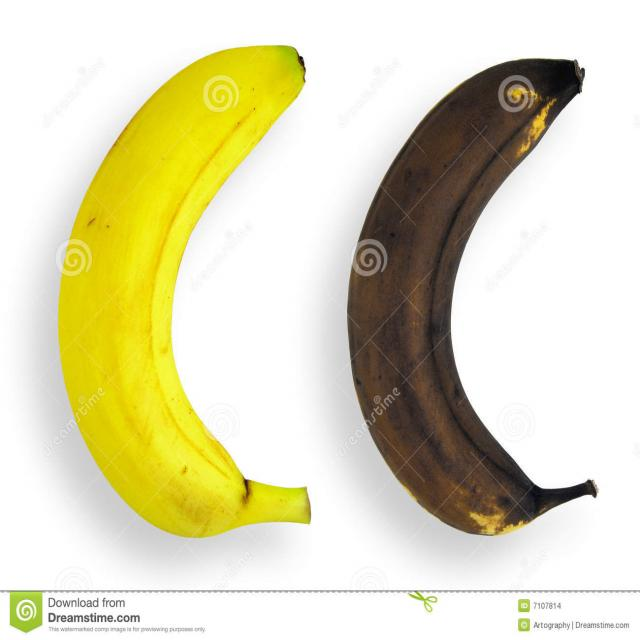Banana: (51, 43, 316, 558), (348, 47, 588, 546)
